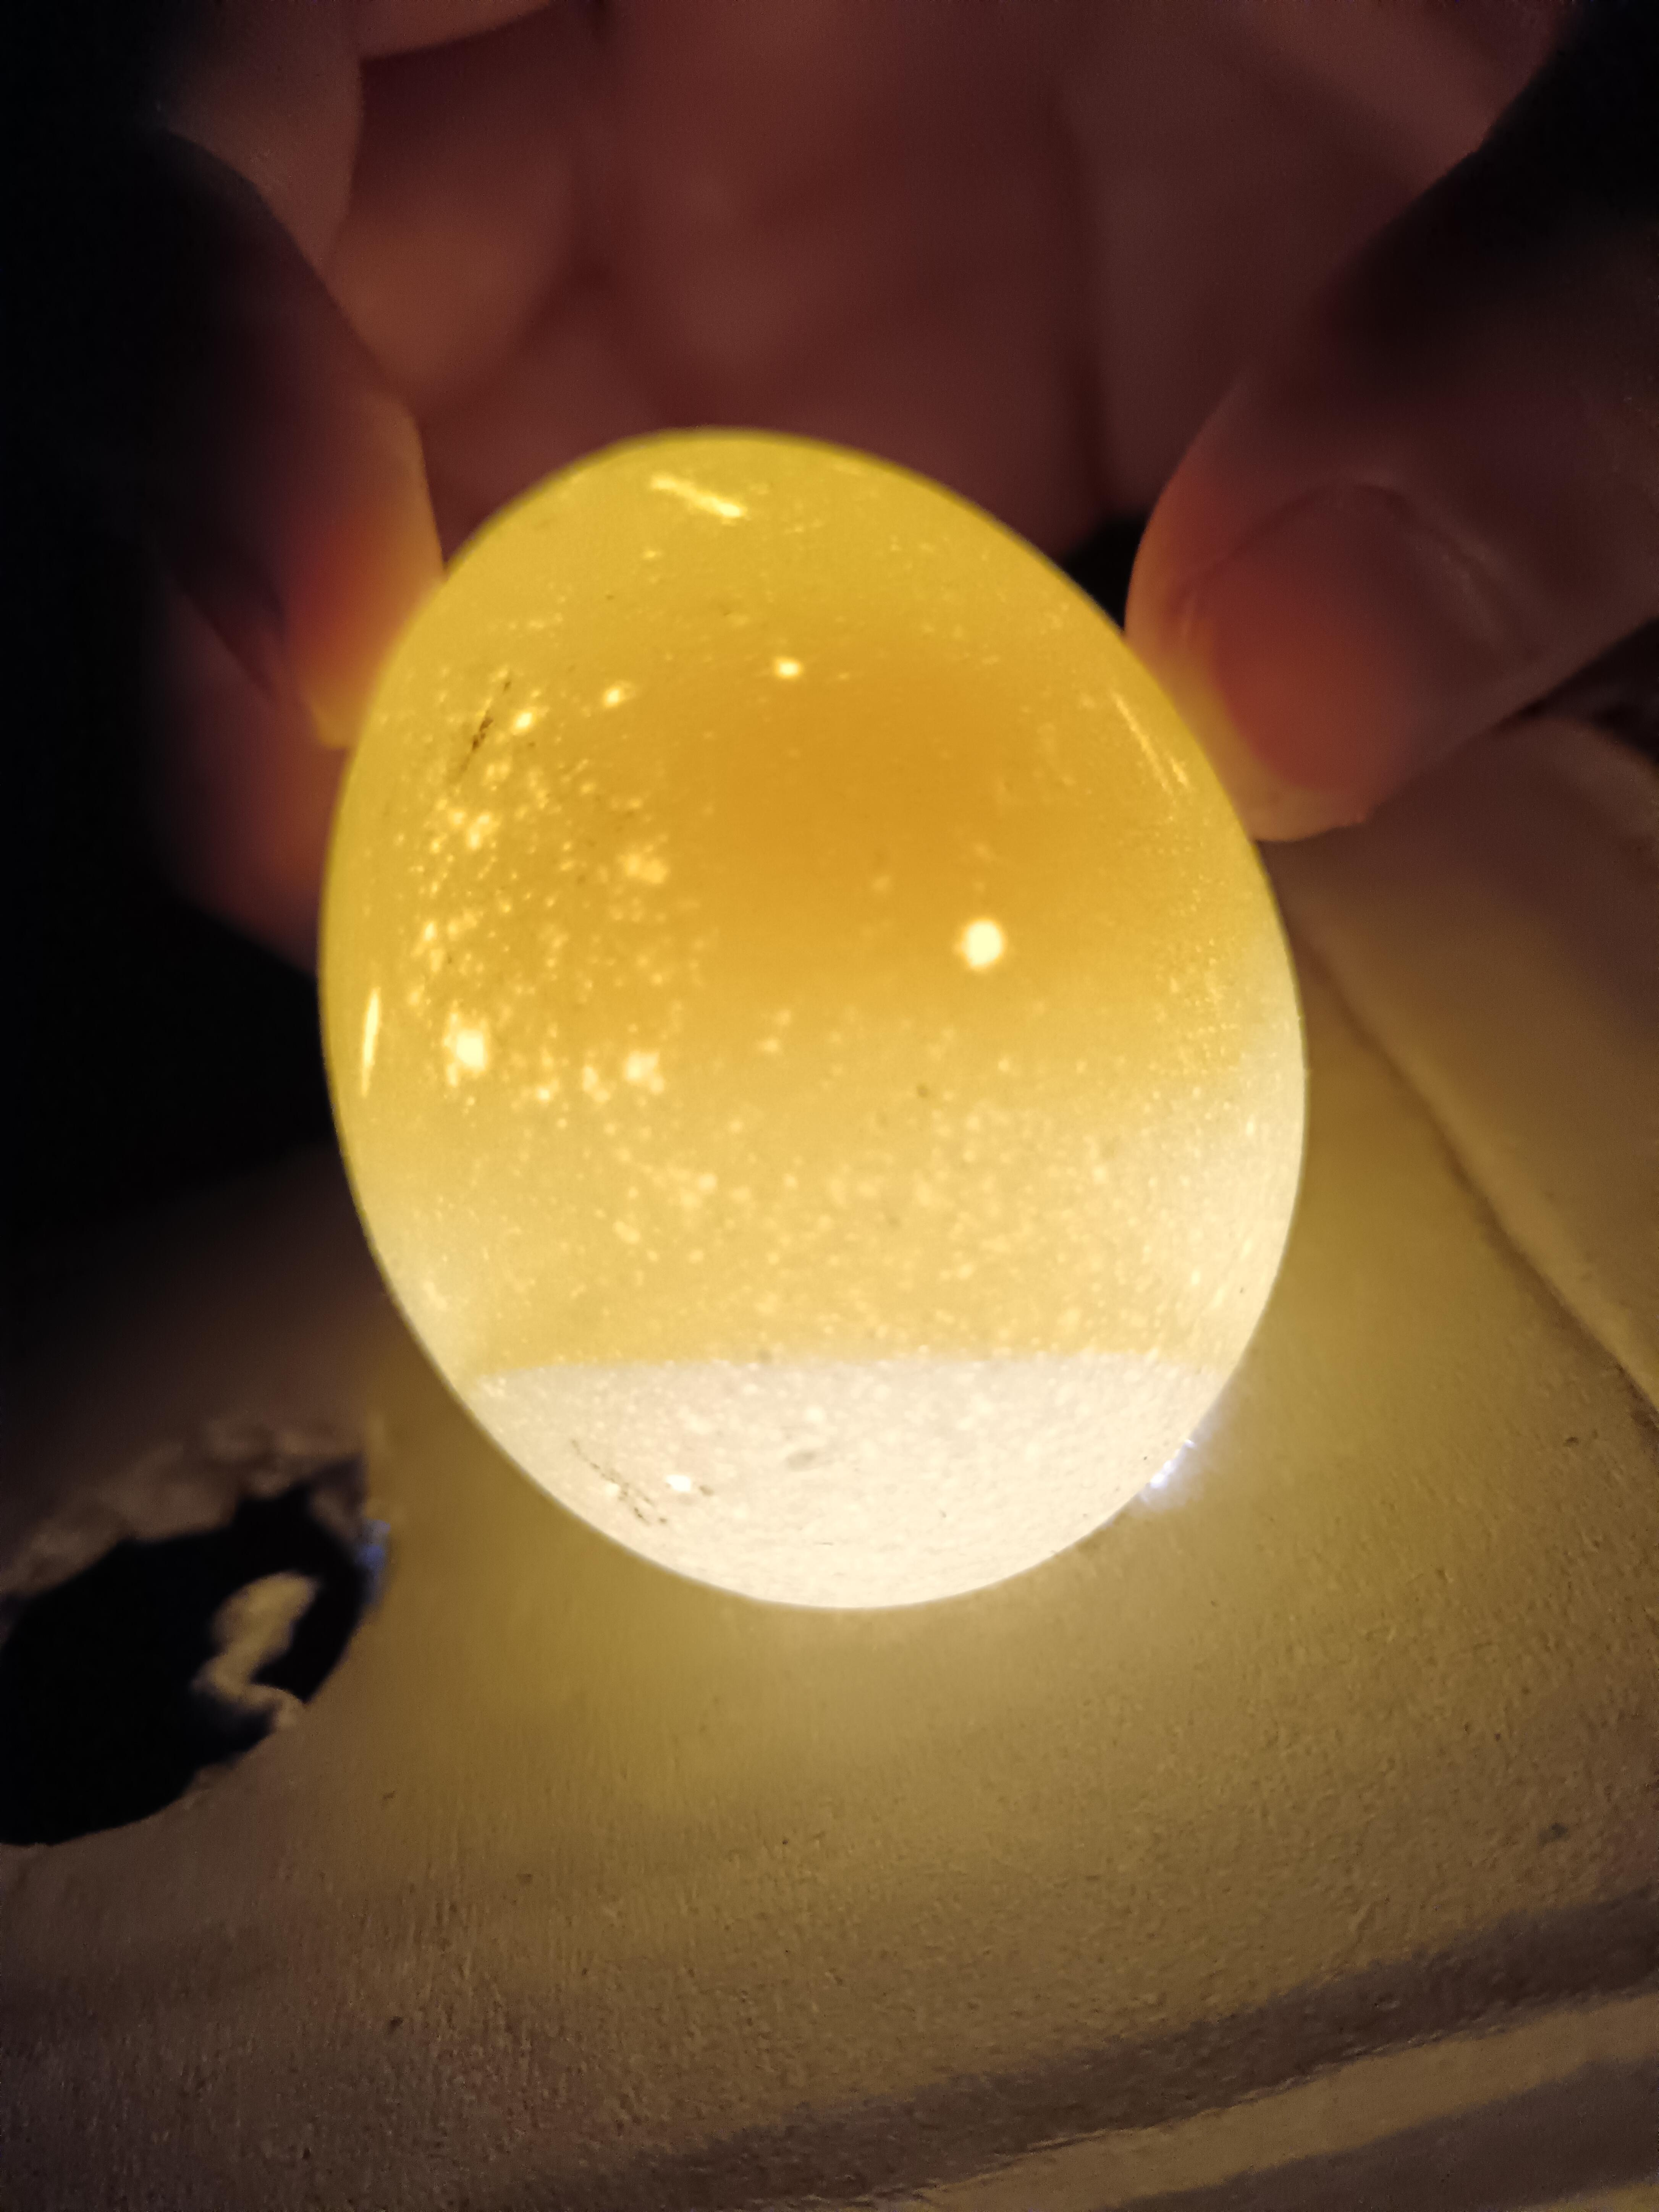B - Fair: (314, 409, 1324, 1616)
